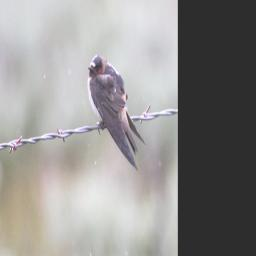Swallow: (86, 53, 147, 171)
